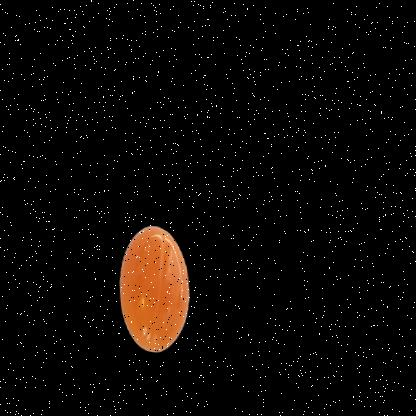welood: (67, 202, 235, 399)
